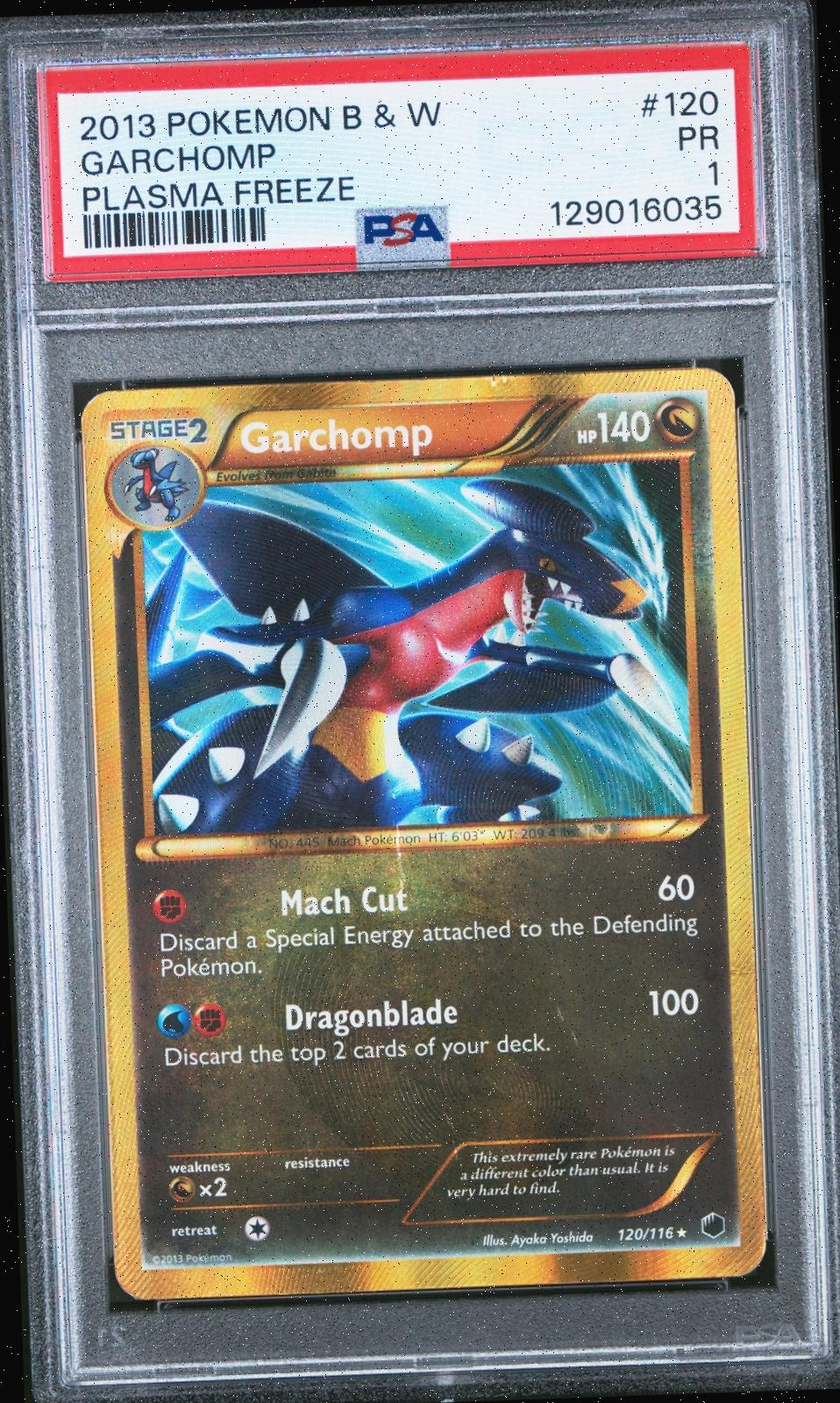card-2UtV: (80, 366, 767, 1301)
